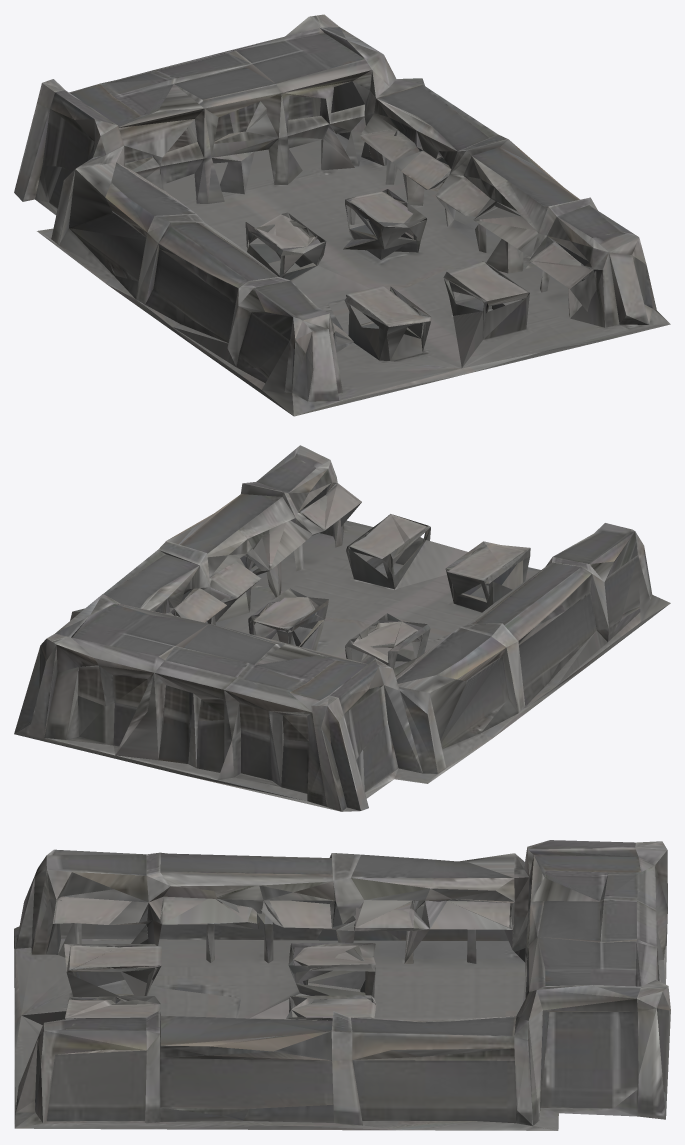
Rendered from imperial_market_district_lod2.glb.
3 views of the same model, one above another, from view 1: azimuth 30°, elevation 25°; view 2: azimuth 150°, elevation 25°; view 3: azimuth 270°, elevation 25° (orthographic). The views are drawn at different scales.
Visible parts, largest first — view 1: mesh_node; view 2: mesh_node; view 3: mesh_node.
Part boxes in pixels (<box>): mesh_node: <box>14,14,670,416</box>; mesh_node: <box>14,445,670,811</box>; mesh_node: <box>14,840,670,1130</box>.
Bounding box in the file's own units: 34.01 × 8.83 × 46.
Materials: 1 (1 with a texture image).
